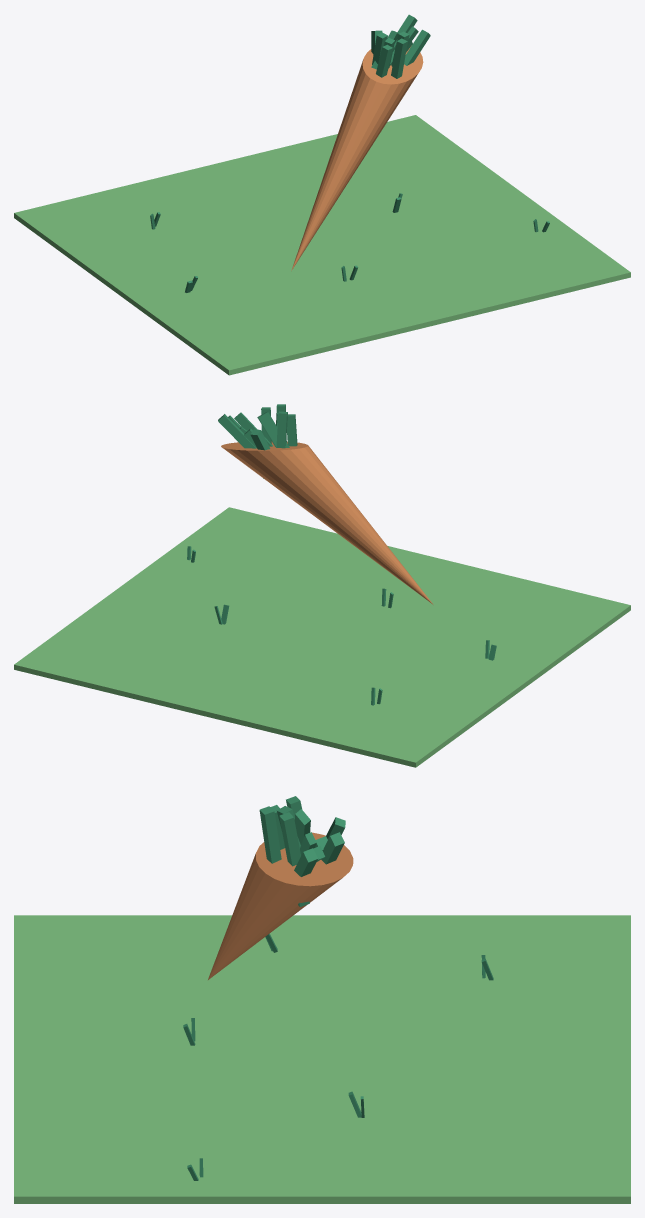
Rendered from asset.glb.
The picture shows the model from 3 angles, top to bottom: view 1: azimuth 30°, elevation 25°; view 2: azimuth 150°, elevation 25°; view 3: azimuth 270°, elevation 25°; orthographic projection. The views are drawn at different scales.
Visible parts, largest first — view 1: Mesh_Mesh_head_geo.001_lambert2SG.001; view 2: Mesh_Mesh_head_geo.001_lambert2SG.001; view 3: Mesh_Mesh_head_geo.001_lambert2SG.001.
Boxes of the visible parts, x1,y1,x2,y2 form: Mesh_Mesh_head_geo.001_lambert2SG.001: (14,14,630,375); Mesh_Mesh_head_geo.001_lambert2SG.001: (14,404,630,767); Mesh_Mesh_head_geo.001_lambert2SG.001: (14,796,630,1203).
Size of the model in its own units: 165 by 82.92 by 153.
